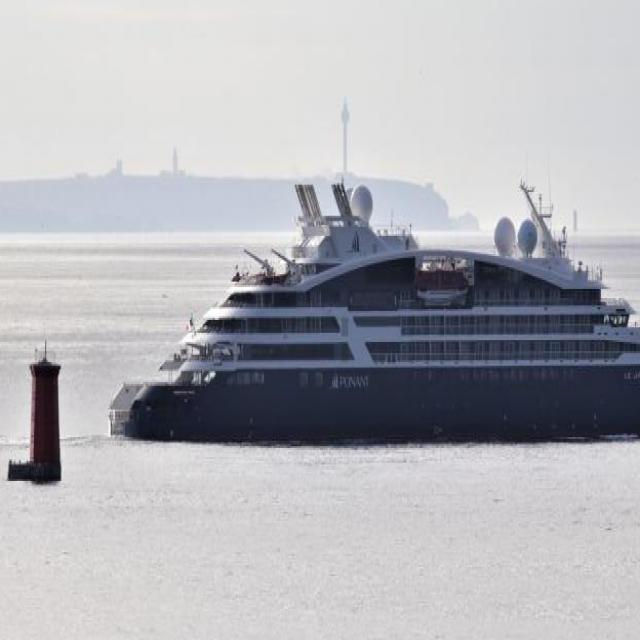cruises: (102, 164, 640, 462)
